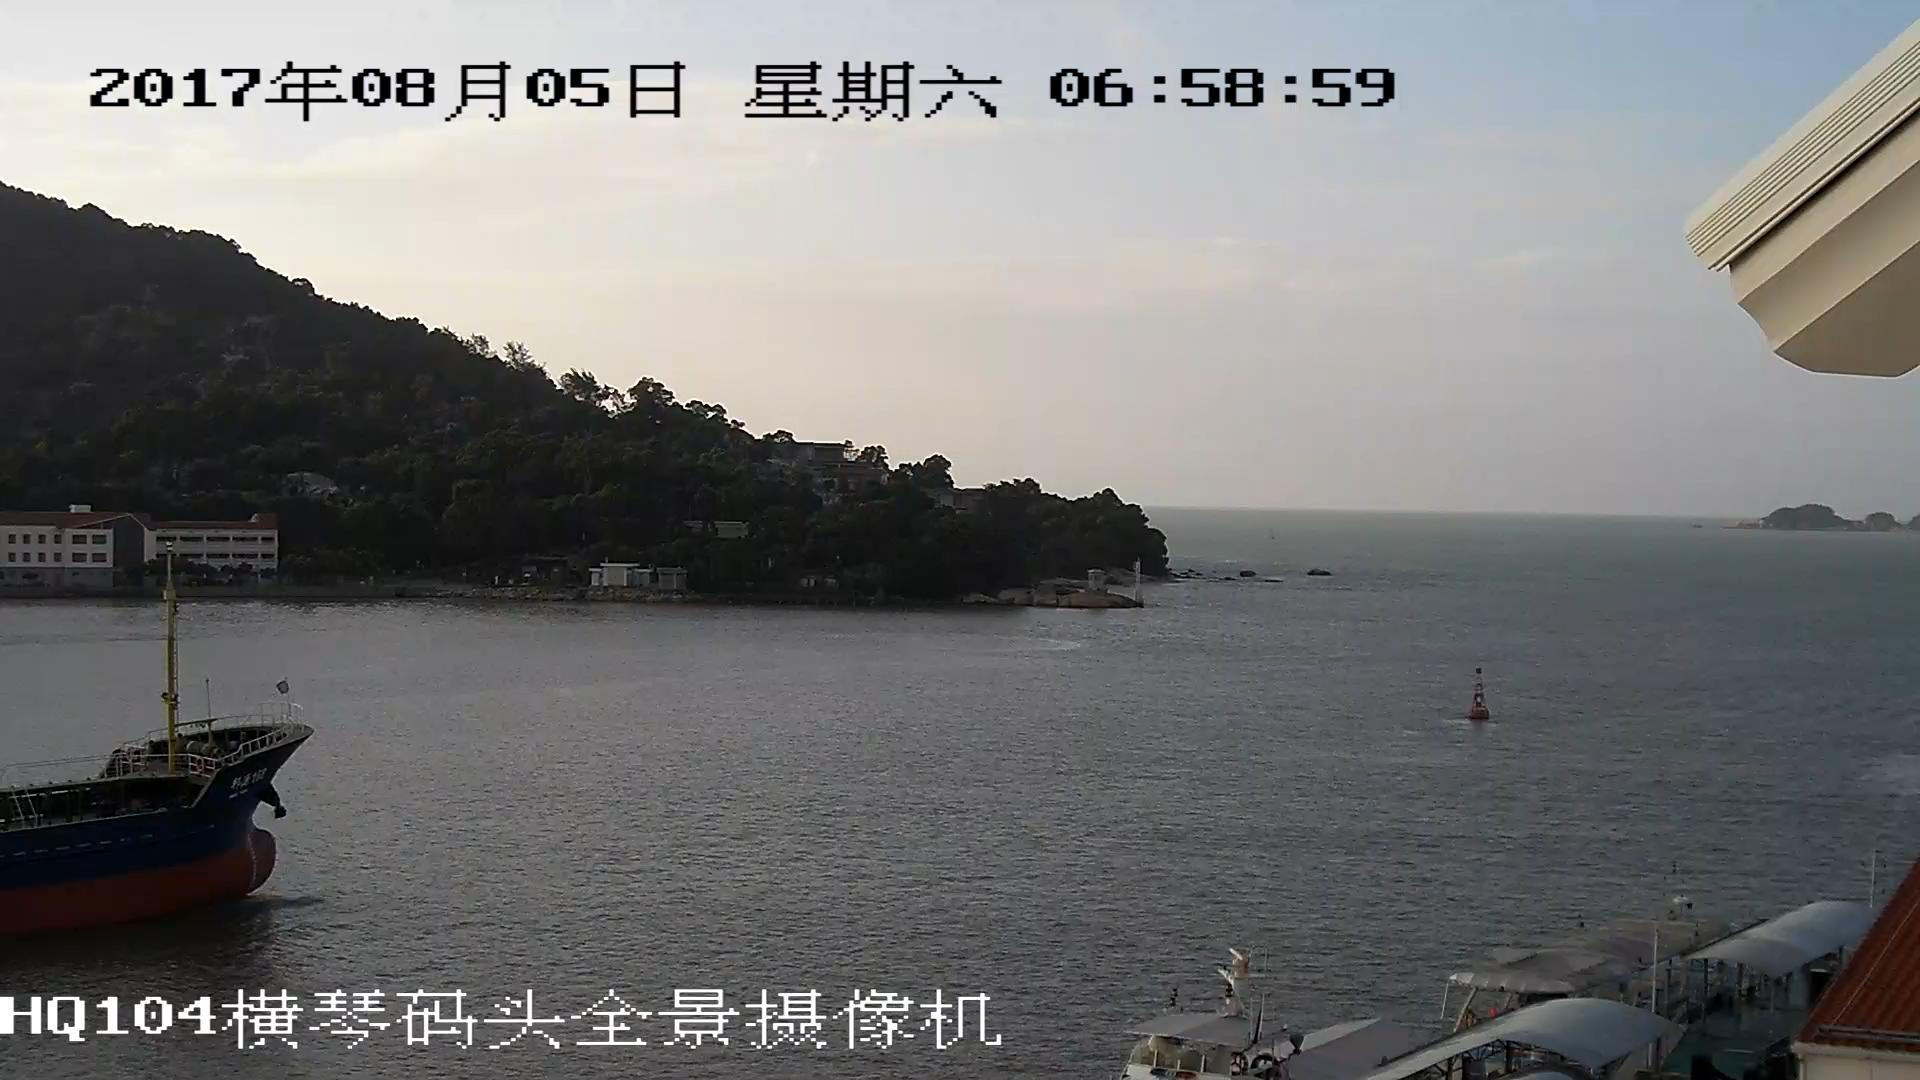Ship: (3, 568, 326, 957)
